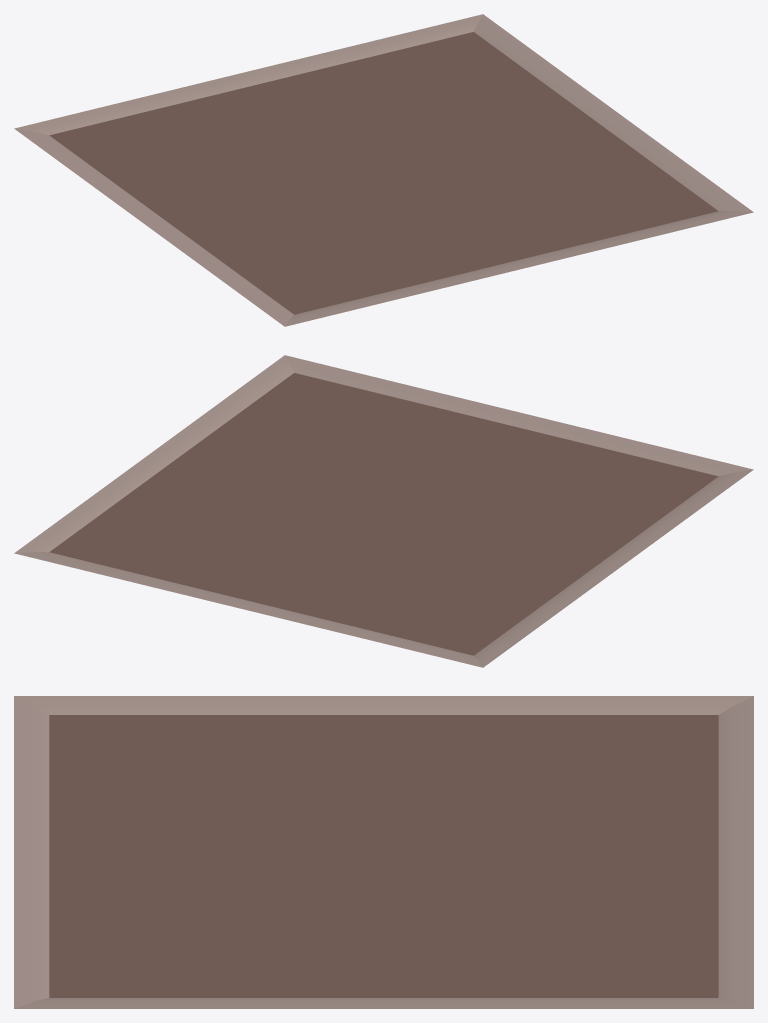
File: Floor_Tile.fbx
3 views of the same model, one above another, from view 1: azimuth 30°, elevation 25°; view 2: azimuth 150°, elevation 25°; view 3: azimuth 270°, elevation 25° (orthographic). The views are drawn at different scales.
Parts seen in each view (by area): view 1: pCube1; view 2: pCube1; view 3: pCube1.
Part boxes in pixels (x1,y1,x2,y2): pCube1: (14,14,753,326); pCube1: (14,355,753,667); pCube1: (14,696,753,1008).
Bounding box in the file's own units: 122 × 0.7 × 122.
